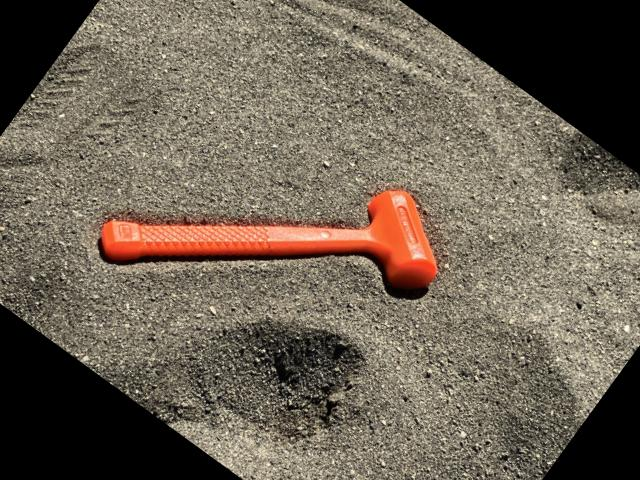hammer: (89, 61, 465, 422)
